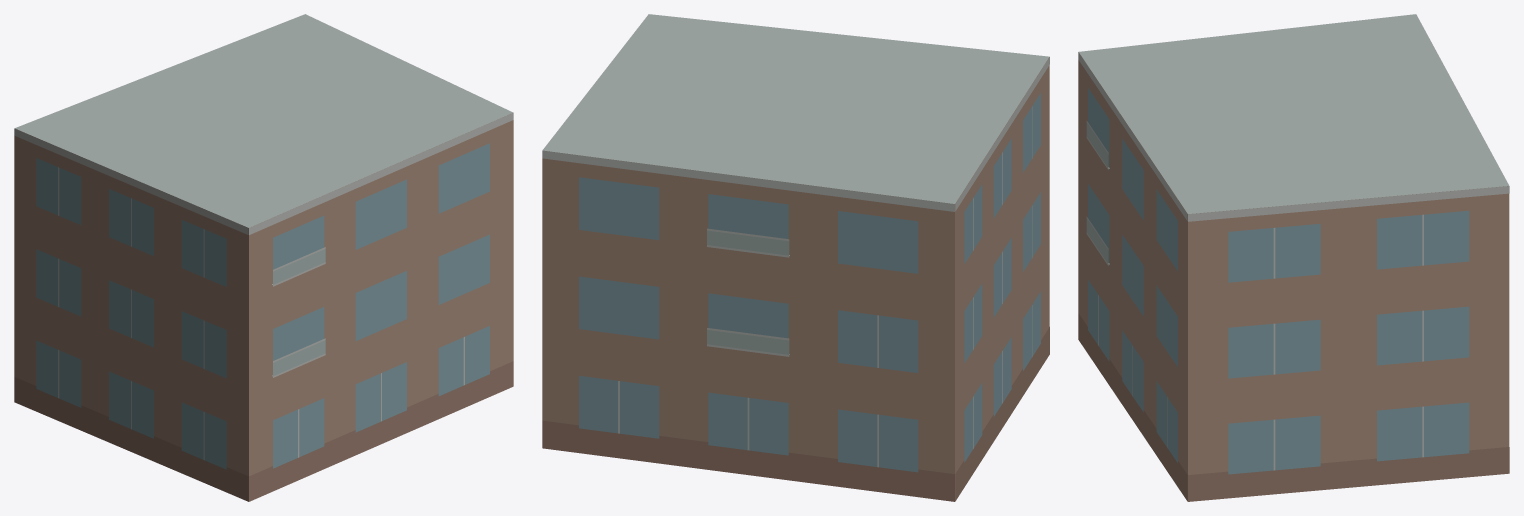
Rendered from survey-upis-32725125.glb.
The picture shows the model from 3 angles, left to right: view 1: azimuth 30°, elevation 25°; view 2: azimuth 150°, elevation 25°; view 3: azimuth 270°, elevation 25°; orthographic projection. The views are drawn at different scales.
Visible parts, largest first — view 1: survey-upis-32725125.tmp; view 2: survey-upis-32725125.tmp; view 3: survey-upis-32725125.tmp.
Part boxes in pixels (x1,y1,x2,y2): survey-upis-32725125.tmp: [14, 14, 513, 501]; survey-upis-32725125.tmp: [542, 14, 1049, 501]; survey-upis-32725125.tmp: [1078, 14, 1509, 501].
Bounding box in the file's own units: 13.66 × 9.15 × 12.43.
